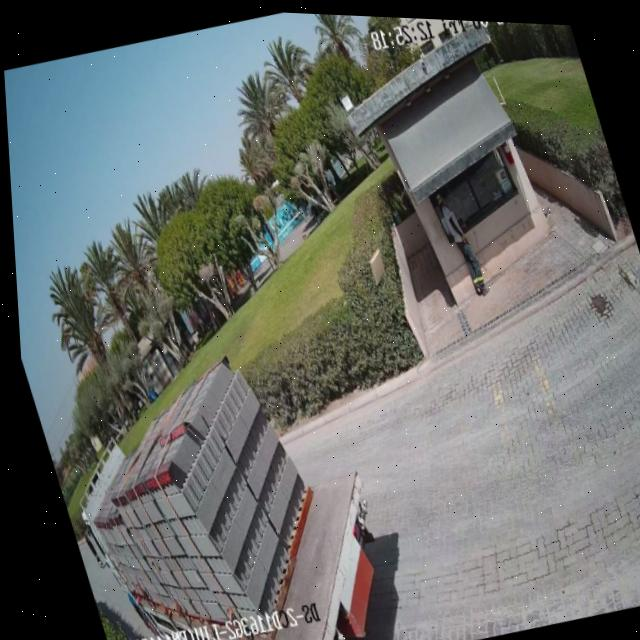bricks: (96, 356, 304, 622)
